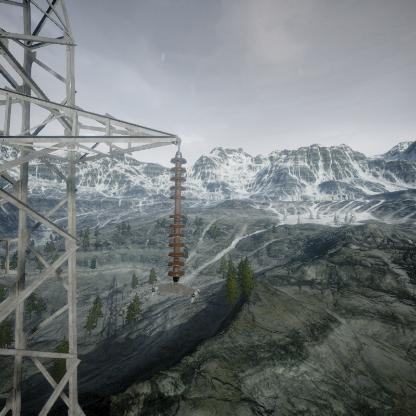insulator: (167, 151, 187, 283)
